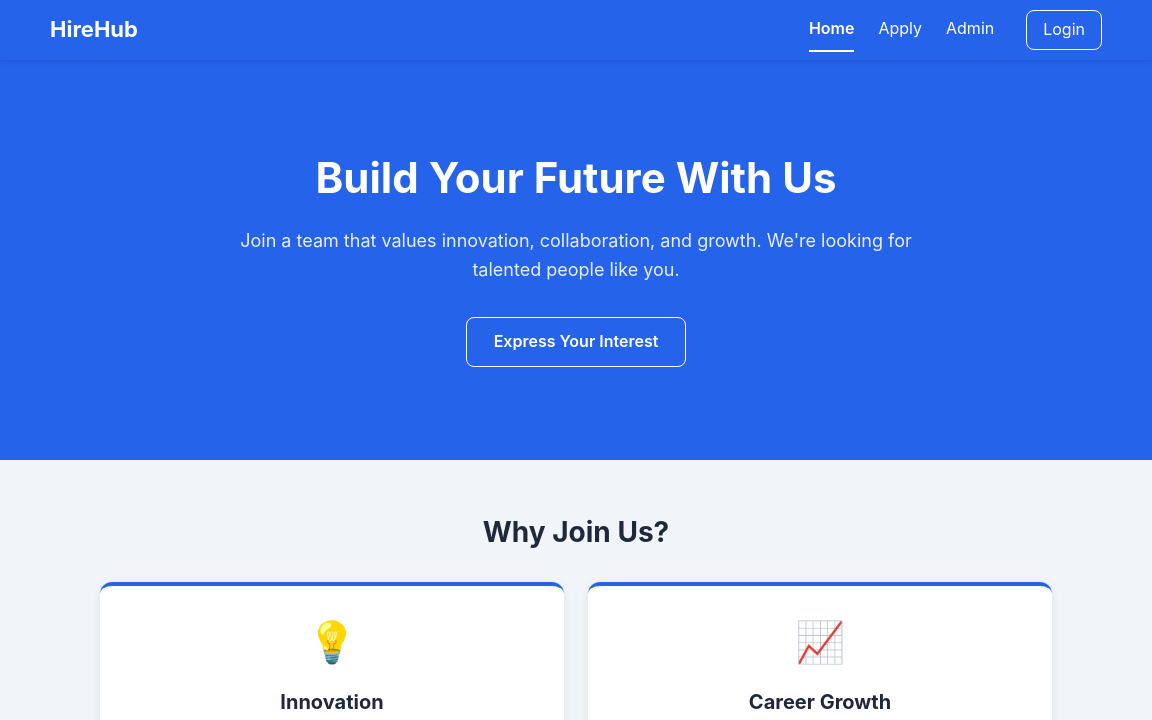
Scenario: App › logs in on the same route and logs out through header preserving unrelated data
The image size is (1152, 720).
Click the link "Login" at [1064, 30], box [1026,10,1102,50]
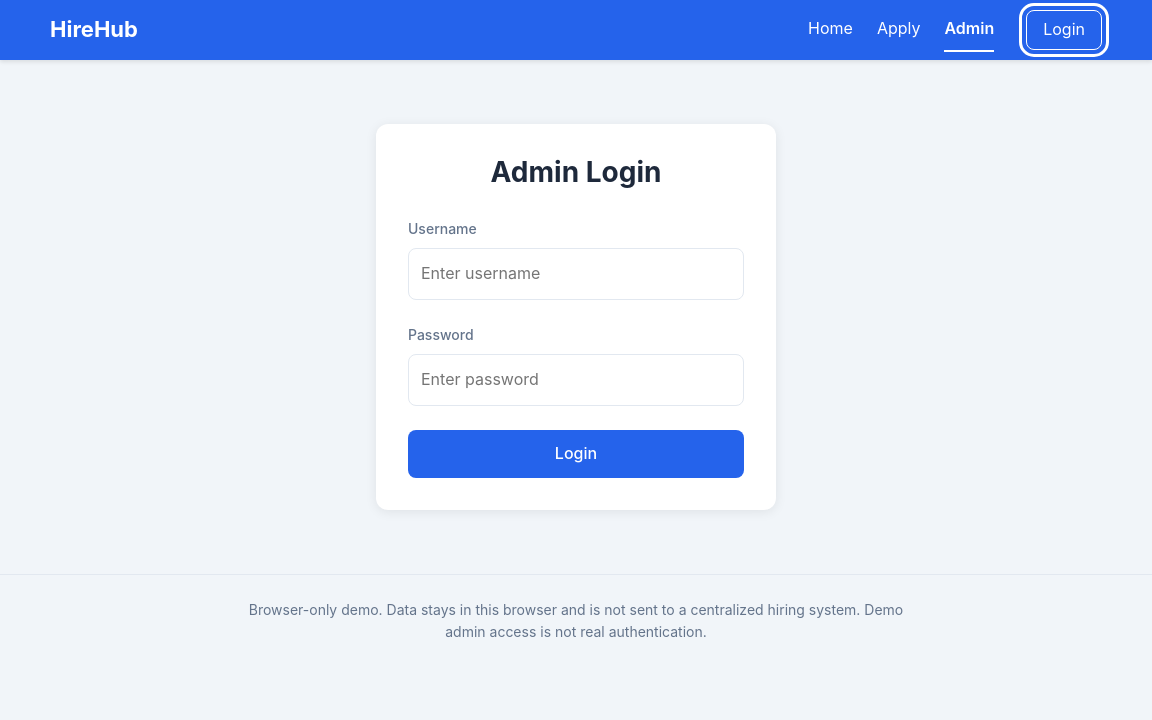
Type "admin" into the field labelled "Username" at [576, 274], box [408,248,744,300]
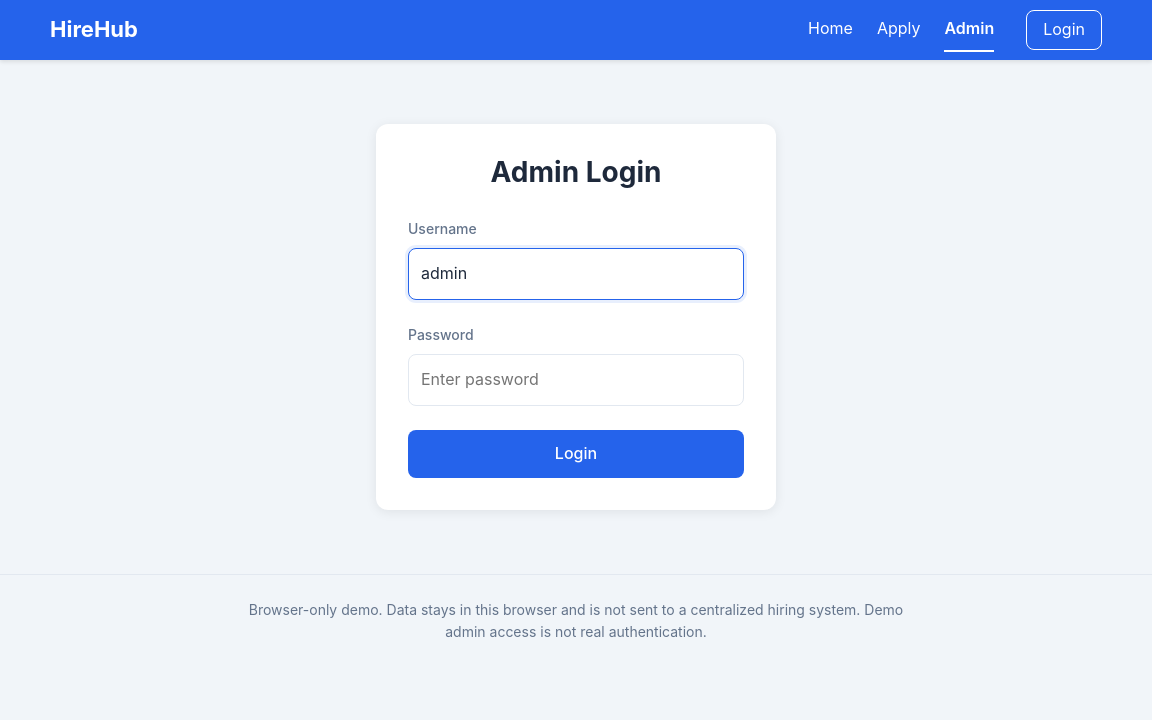
Type "admin" into the password field labelled "Password" at [576, 380], box [408,354,744,406]
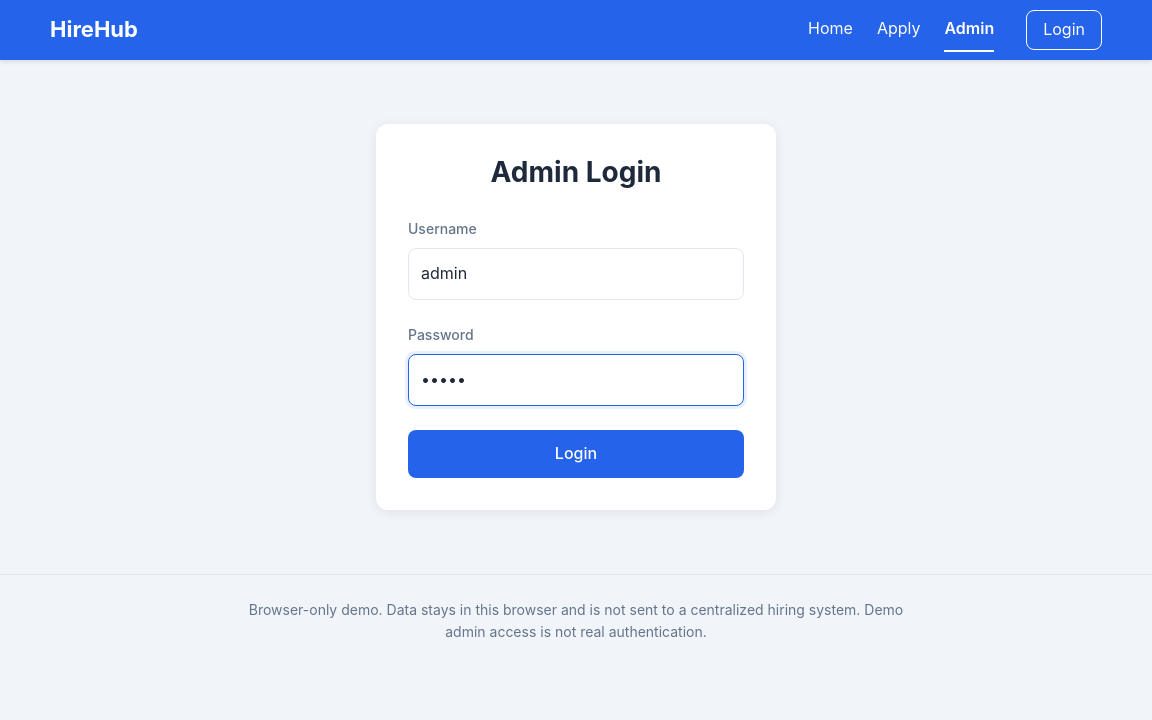
Click the button "Login" at [576, 454], box [408,430,744,478]
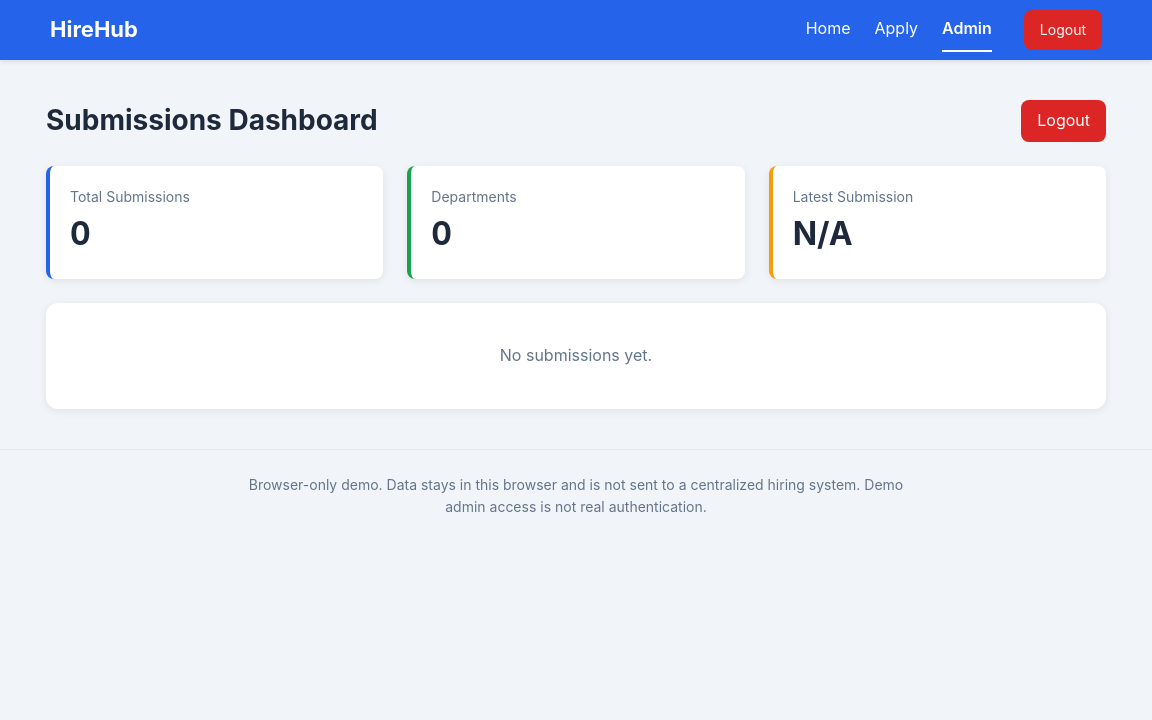
Result: the heading "Submissions Dashboard" is shown at [46,104,378,138]
Click the button "Logout" in the row of "Apply" at [1063, 30], box [1024,10,1102,50]
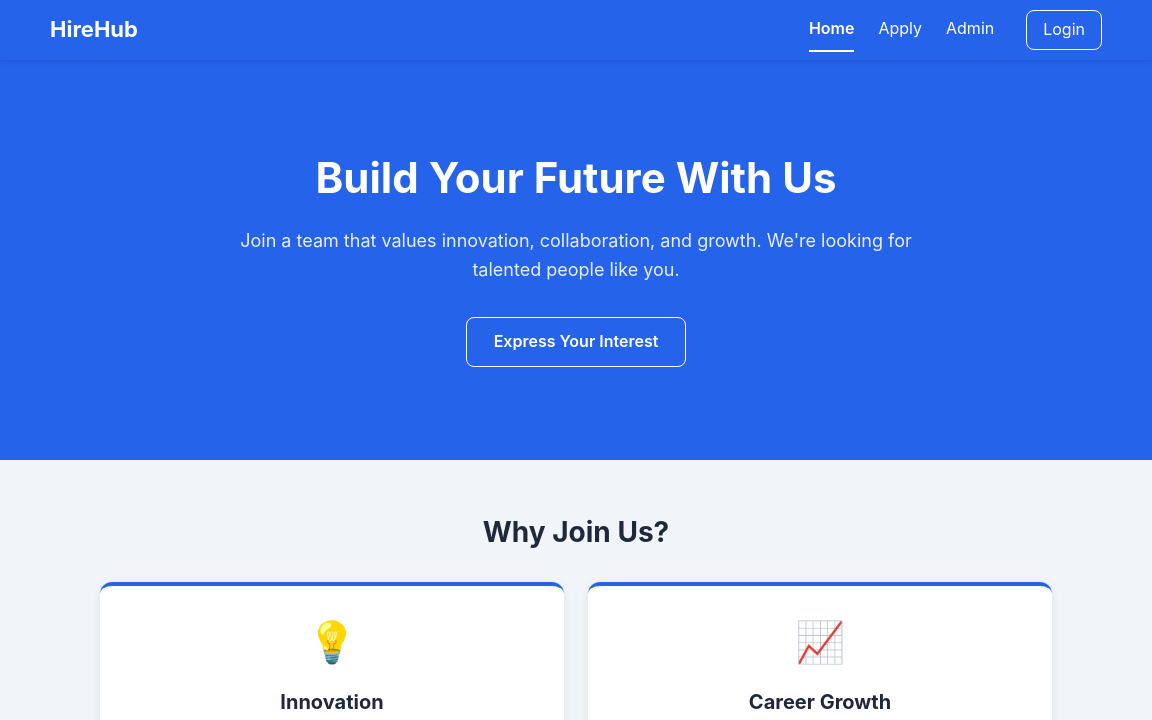
Result: the heading "Build Your Future With Us" is shown at [316,152,836,203]
Click the link "Admin" at [970, 28], box [946,18,994,38]
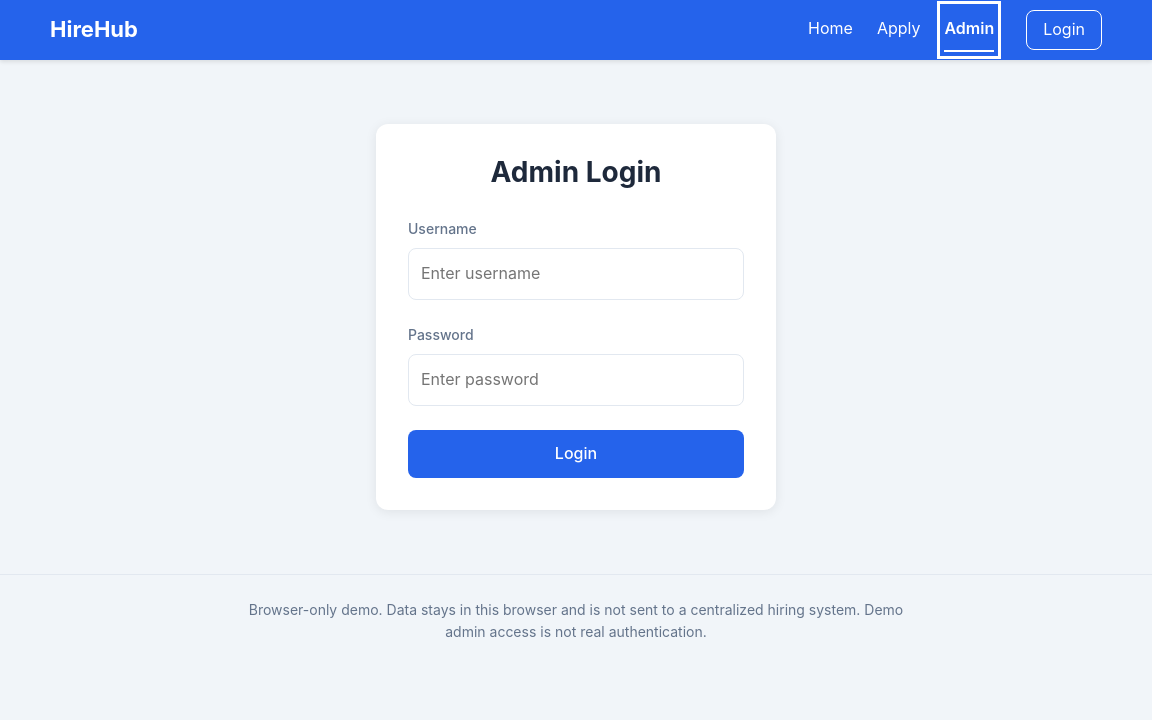
Result: the heading "Admin Login" is shown at [491,155,661,189]
